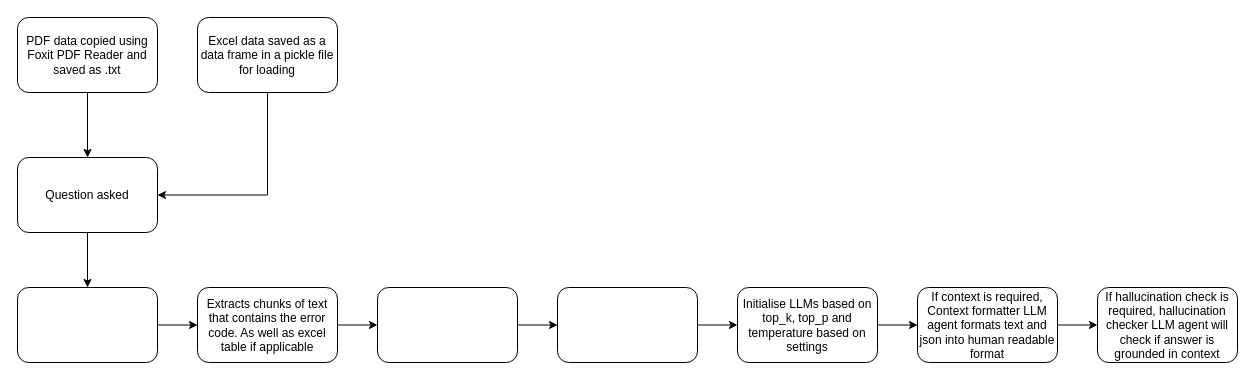
The diagram is 1255 pixels wide and 380 high, and some of its shapes have lost their labels. The centre of each missing label's shape, as x and y in pixels:
Error code Identifier LLM extracts the error code: point (87, 324)
If document validation is required, filter out irrelevant documents: point (447, 324)
Main response prompt template depends if session chat history is required: point (627, 324)
